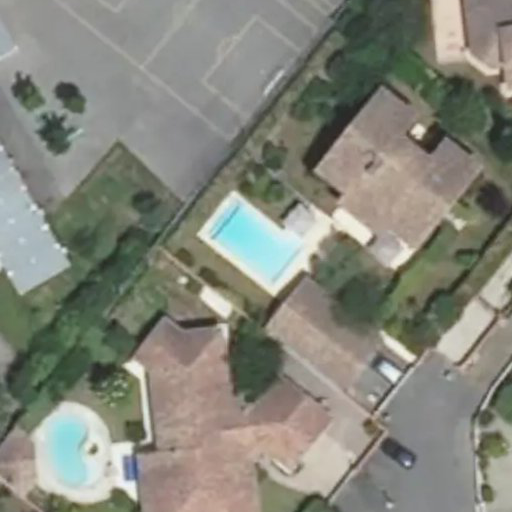pool: (206, 232, 305, 240)
